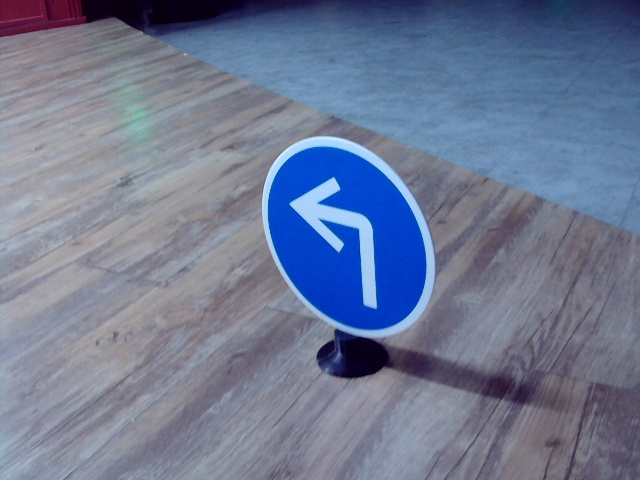turn_left: (286, 169, 390, 308)
